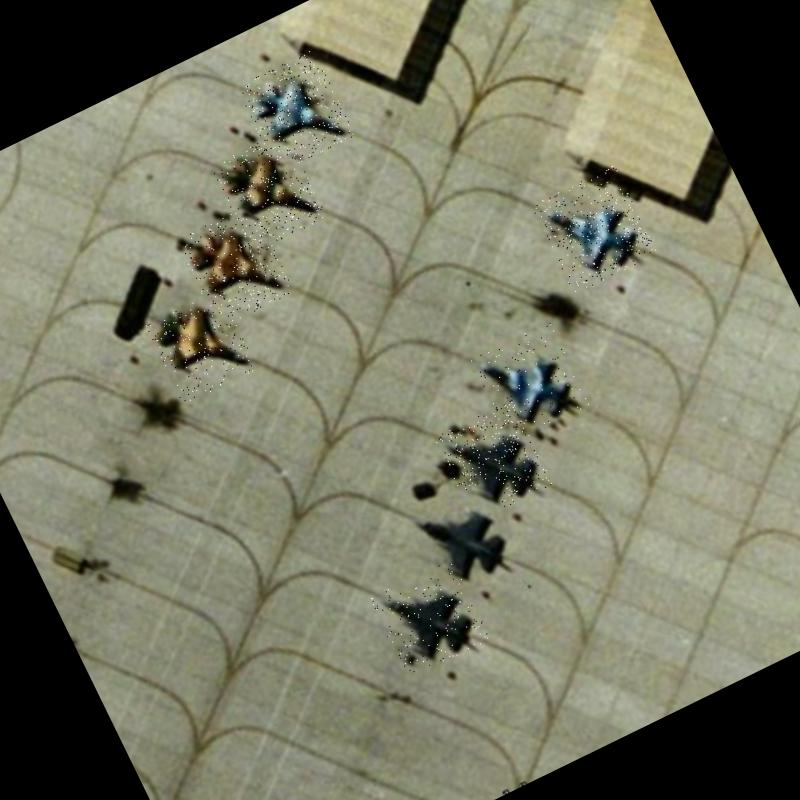A5: (531, 164, 658, 295), (402, 477, 530, 603), (174, 202, 294, 328), (469, 320, 590, 443), (235, 48, 355, 172), (368, 557, 490, 678), (434, 399, 553, 522), (210, 129, 327, 253), (144, 290, 258, 404)
